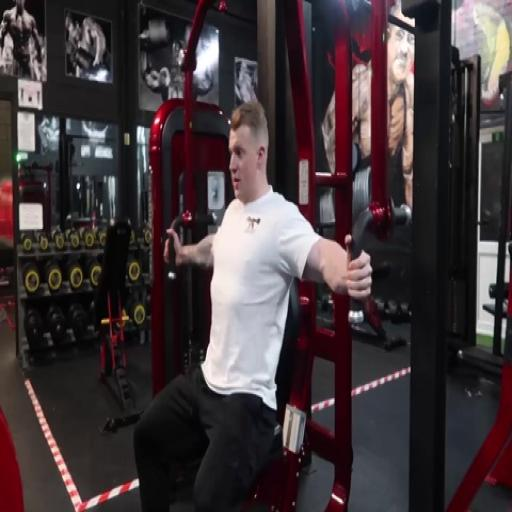exercise: (131, 98, 376, 511)
